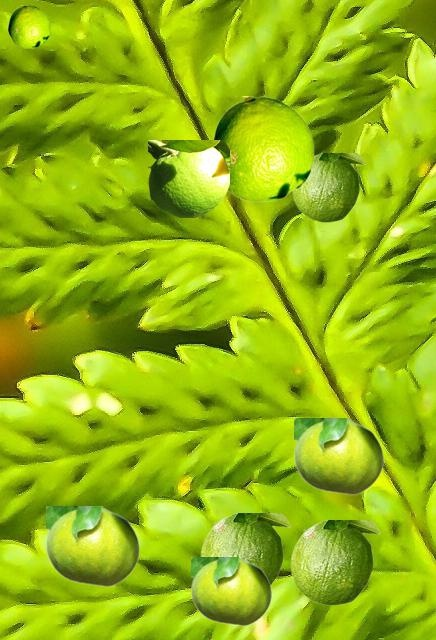dalandan: (213, 96, 313, 201), (290, 520, 379, 604), (46, 506, 139, 586), (294, 418, 383, 494), (200, 513, 289, 584), (148, 140, 228, 216), (191, 557, 271, 625), (292, 153, 364, 221), (8, 5, 49, 47)
